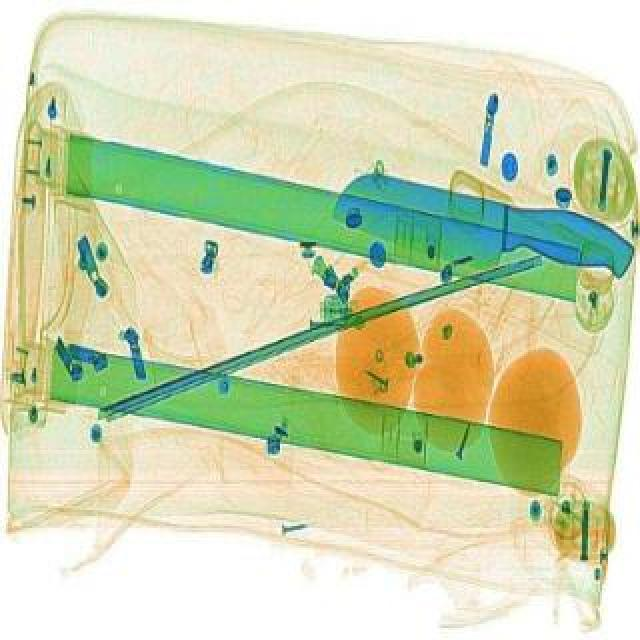knife: (326, 162, 638, 298)
